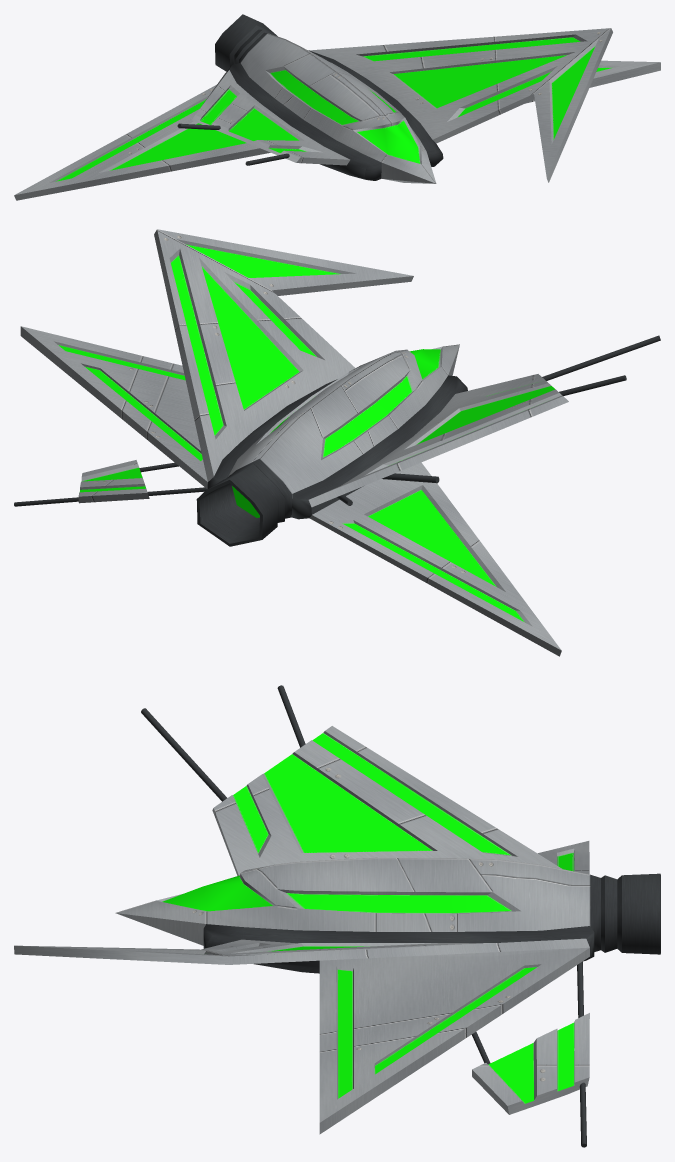
The model's file is X-Jet-2_Break3.fbx.
The picture shows the model from 3 angles, top to bottom: view 1: azimuth 30°, elevation 25°; view 2: azimuth 150°, elevation 25°; view 3: azimuth 270°, elevation 25°; orthographic projection. The views are drawn at different scales.
Parts seen in each view (by area): view 1: X_Jet_5; view 2: X_Jet_5, pCylinder6, pCylinder3; view 3: X_Jet_5, pCylinder6, pCylinder3.
Part boxes in pixels (bbox=[...]): X_Jet_5: bbox=[14, 14, 660, 200]; X_Jet_5: bbox=[20, 229, 568, 656]; pCylinder6: bbox=[542, 335, 660, 380]; pCylinder3: bbox=[14, 487, 207, 506]; X_Jet_5: bbox=[14, 726, 660, 1134]; pCylinder6: bbox=[141, 708, 226, 801]; pCylinder3: bbox=[577, 961, 586, 1147].
Bounding box in the file's own units: 22.17 × 5.86 × 16.
